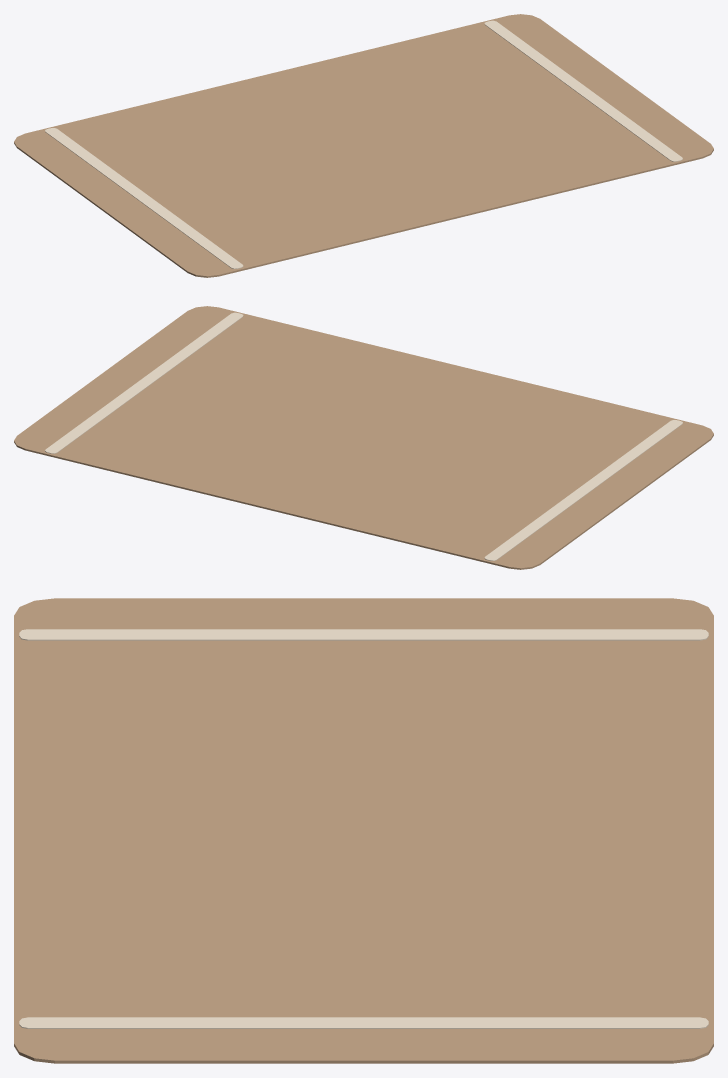
File: kit_rug_rect_v1.glb
The picture shows the model from 3 angles, top to bottom: view 1: azimuth 30°, elevation 25°; view 2: azimuth 150°, elevation 25°; view 3: azimuth 270°, elevation 25°; orthographic projection. The views are drawn at different scales.
Parts seen in each view (by area): view 1: body; view 2: body; view 3: body.
Part boxes in pixels (x1,y1,x2,y2): body: [14, 14, 713, 277]; body: [14, 306, 713, 569]; body: [14, 598, 713, 1063].
Bounding box in the file's own units: 2 × 0.008 × 1.28.
